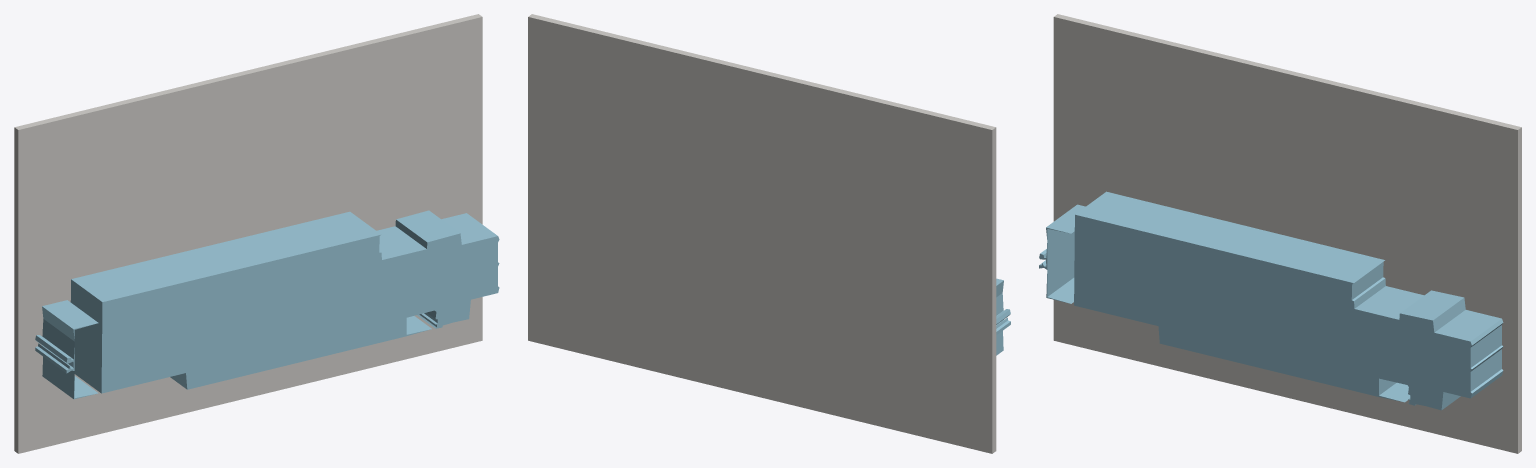
3 views of the same model, side by side, from view 1: azimuth 30°, elevation 25°; view 2: azimuth 150°, elevation 25°; view 3: azimuth 330°, elevation 25° (orthographic).
Visible parts, largest first — view 1: world; view 2: world; view 3: world.
Part boxes in pixels (<box>): world: <box>14,14,499,453</box>; world: <box>528,14,1010,453</box>; world: <box>1039,14,1521,453</box>.
Bounding box in the file's own units: 10.23 × 6.82 × 1.35.
